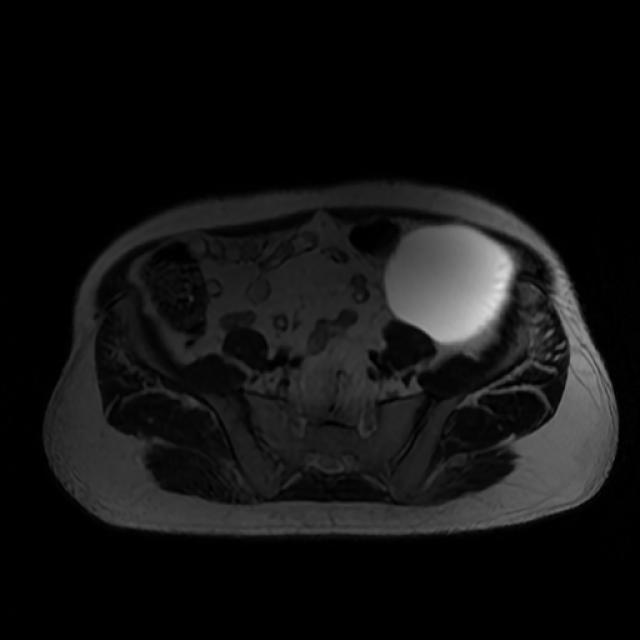sol: (382, 223, 514, 342)
